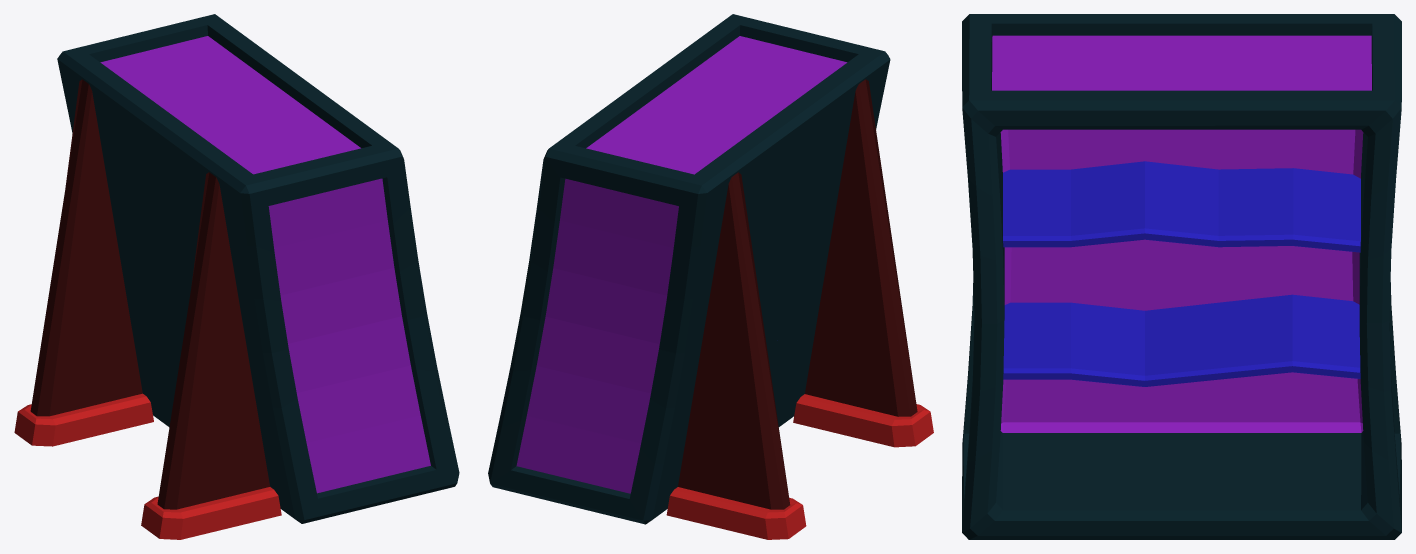
The model's file is MESH_StandBookSave.fbx.
3 renders of one model, left to right at view 1: azimuth 30°, elevation 25°; view 2: azimuth 150°, elevation 25°; view 3: azimuth 270°, elevation 25°, orthographic. The views are drawn at different scales.
Parts seen in each view (by area): view 1: MESH_StandBookSave; view 2: MESH_StandBookSave; view 3: MESH_StandBookSave.
Boxes of the visible parts, box(x1,y1,x2,y2) form: MESH_StandBookSave: box(14, 14, 459, 539); MESH_StandBookSave: box(488, 14, 933, 539); MESH_StandBookSave: box(962, 14, 1401, 539).
Size of the model in its own units: 0.8387 by 1 by 0.9773.
